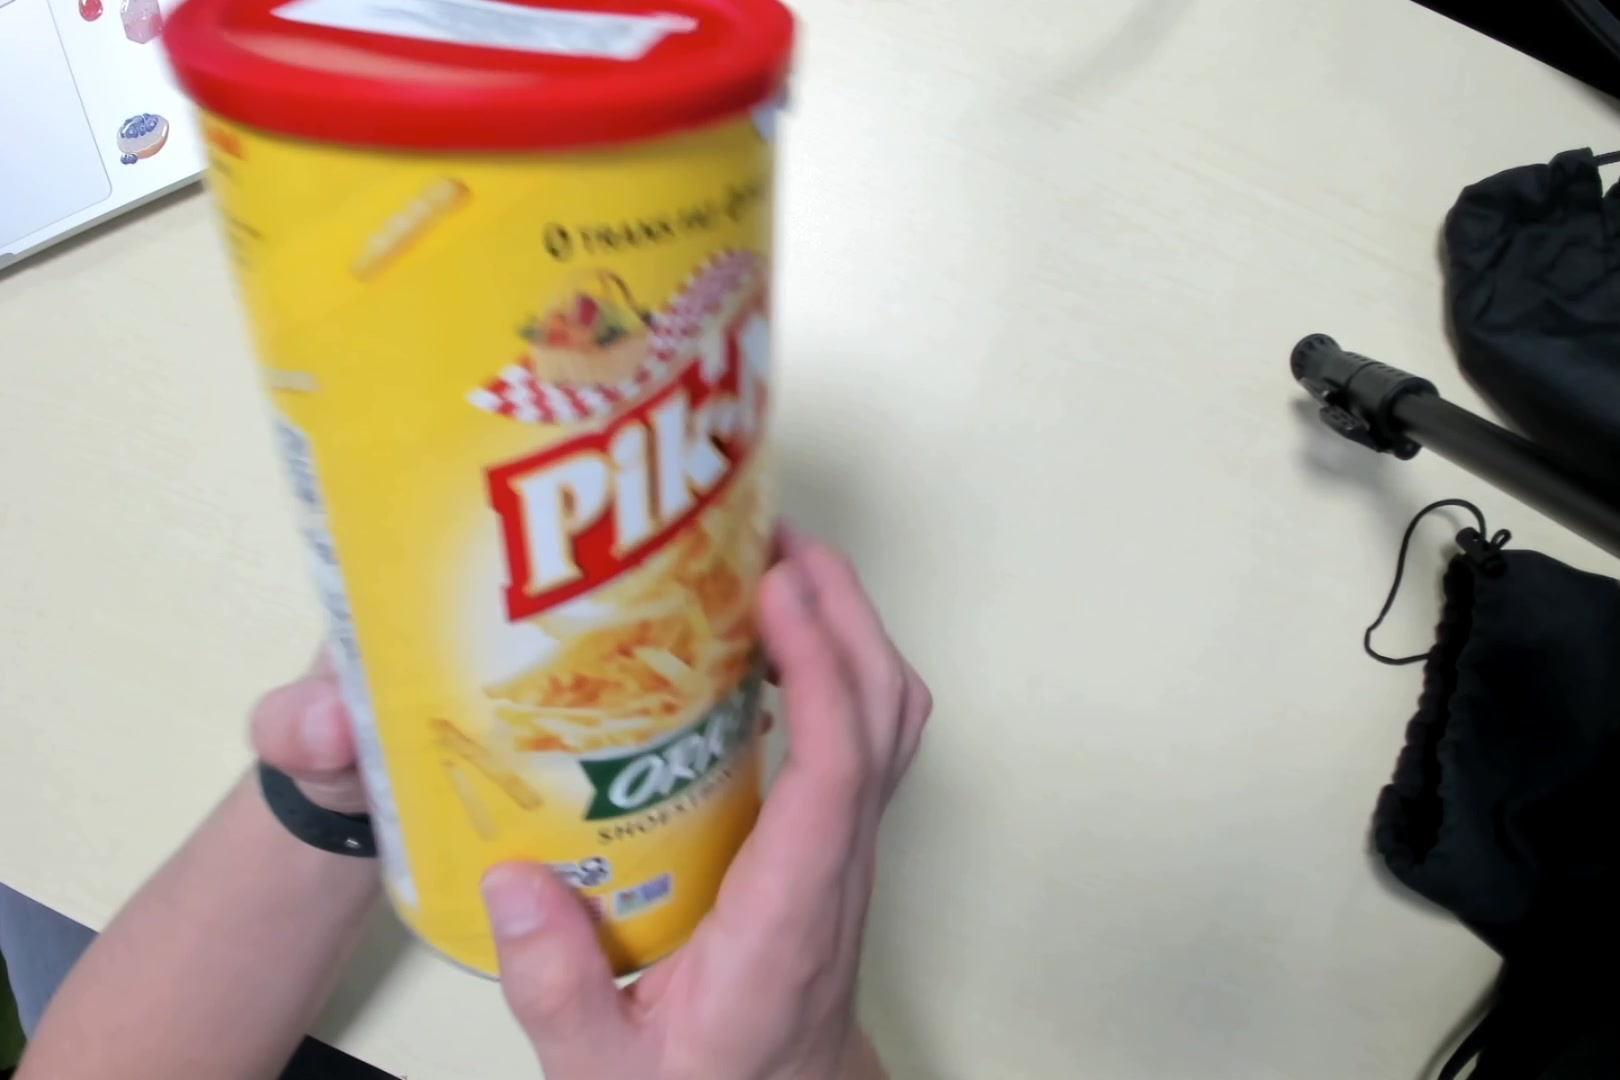PotatoChipsKeropok_200-299g_NonHalal_NonHealthy: (184, 6, 782, 992)
